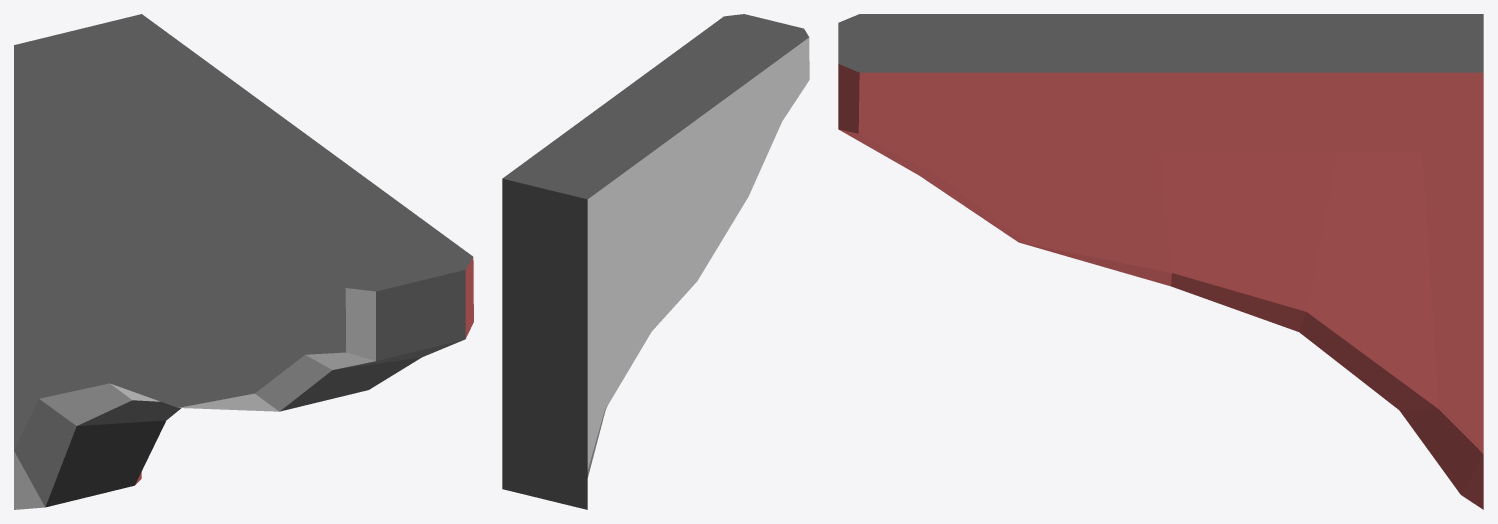
Rendered from mine_wall_arch.fbx.
The picture shows the model from 3 angles, left to right: view 1: azimuth 30°, elevation 25°; view 2: azimuth 150°, elevation 25°; view 3: azimuth 270°, elevation 25°; orthographic projection. The views are drawn at different scales.
Visible parts, largest first — view 1: wall_arch; view 2: wall_arch; view 3: wall_arch.
Part boxes in pixels (x1=…): wall_arch: x1=14, y1=14, x2=473, y2=509; wall_arch: x1=502, y1=14, x2=809, y2=509; wall_arch: x1=838, y1=14, x2=1483, y2=509.
Size of the model in its own units: 0.6622 by 2.24 by 3.
